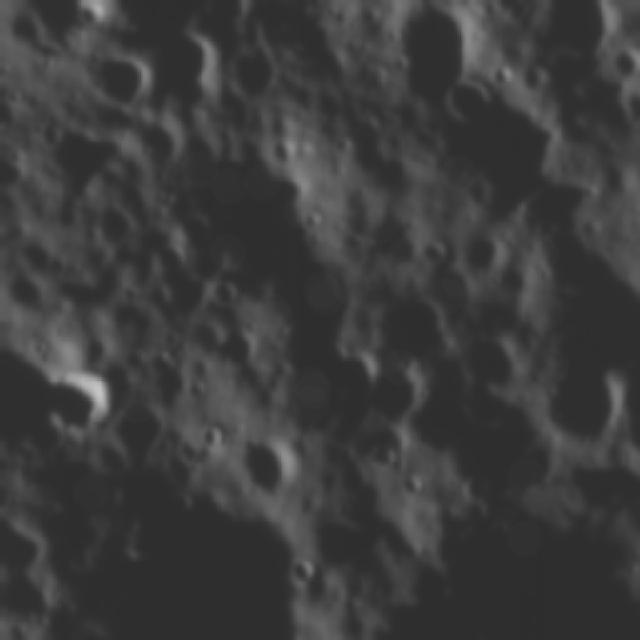crater: (64, 495, 299, 640), (432, 100, 566, 212), (530, 357, 628, 451), (0, 326, 65, 457), (396, 0, 472, 103), (355, 290, 462, 362), (47, 128, 131, 206), (149, 34, 223, 121), (512, 178, 608, 238), (360, 359, 440, 430), (231, 428, 304, 501), (49, 366, 116, 442), (462, 328, 533, 399), (539, 0, 616, 62), (305, 509, 373, 578), (84, 51, 153, 118), (357, 210, 425, 275), (15, 0, 100, 48), (225, 44, 283, 111), (436, 71, 490, 137), (151, 265, 209, 323), (0, 574, 54, 631), (446, 231, 506, 280), (0, 518, 45, 580), (212, 328, 260, 375), (282, 555, 324, 593), (0, 152, 28, 200), (192, 421, 225, 457), (212, 277, 238, 320)
